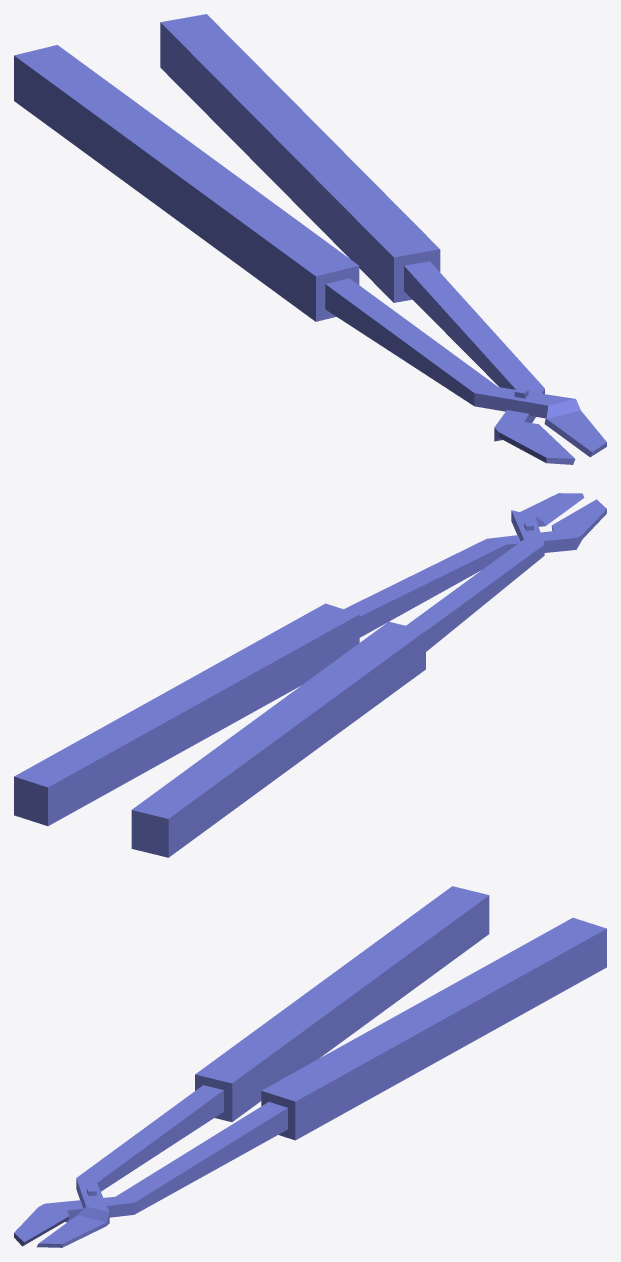
The model's file is pruning_shears.fbx.
The picture shows the model from 3 angles, top to bottom: view 1: azimuth 30°, elevation 25°; view 2: azimuth 150°, elevation 25°; view 3: azimuth 330°, elevation 25°; orthographic projection. The views are drawn at different scales.
Visible parts, largest first — view 1: shears; view 2: shears; view 3: shears.
Part boxes in pixels (x1,y1,x2,y2): shears: (14, 14, 606, 464); shears: (14, 493, 606, 857); shears: (14, 886, 606, 1247).
Bounding box in the file's own units: 27.68 × 6.42 × 136.
